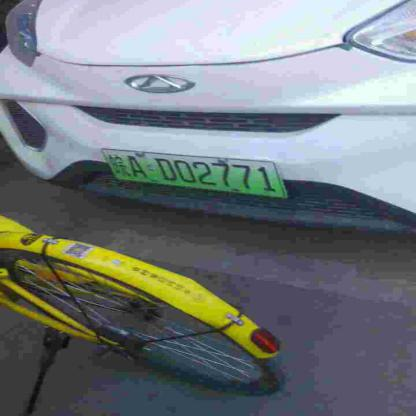lp: (102, 149, 285, 197)
